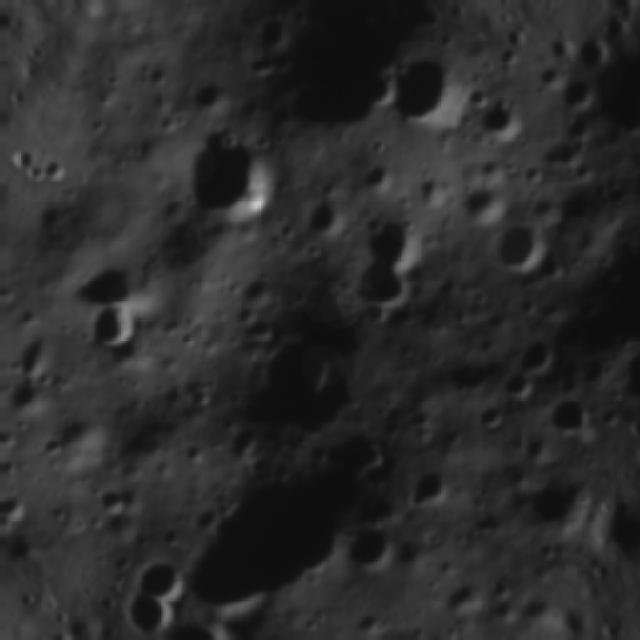crater: (169, 424, 382, 640), (163, 111, 295, 244), (368, 32, 477, 151), (231, 312, 346, 418), (330, 248, 424, 338), (512, 455, 602, 547), (357, 203, 448, 282), (64, 248, 148, 324), (71, 290, 143, 362), (336, 512, 406, 586), (466, 86, 536, 154), (479, 216, 552, 281), (400, 453, 465, 522), (532, 378, 596, 442), (125, 548, 192, 604), (498, 327, 559, 381), (484, 362, 542, 411), (464, 391, 513, 440), (354, 614, 444, 640), (554, 69, 603, 116), (29, 148, 74, 198), (550, 108, 599, 152), (609, 336, 640, 396)
